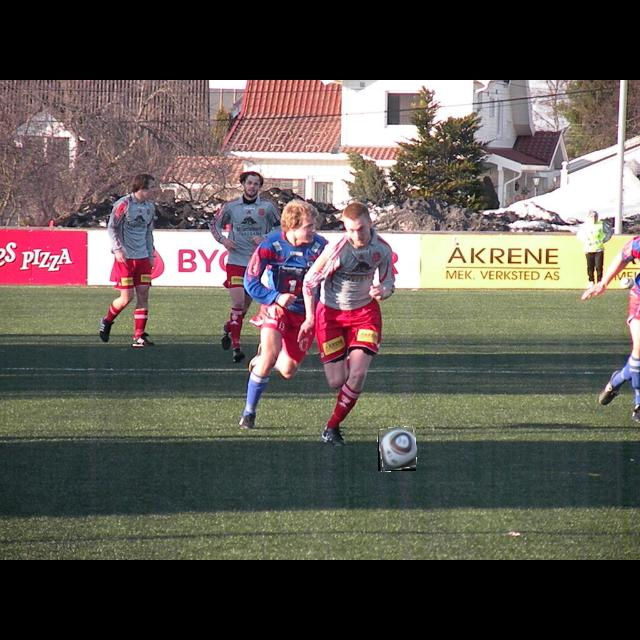Football: (378, 427, 416, 471)
